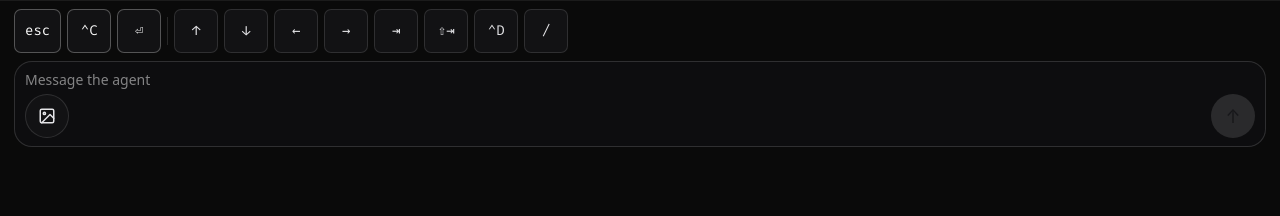
Test case: Composer › Tab accepts the selected slash command into the draft without sending
Type "/cl" into the text box with placeholder "Message the agent" at (640, 80), box [25,70,1255,90]
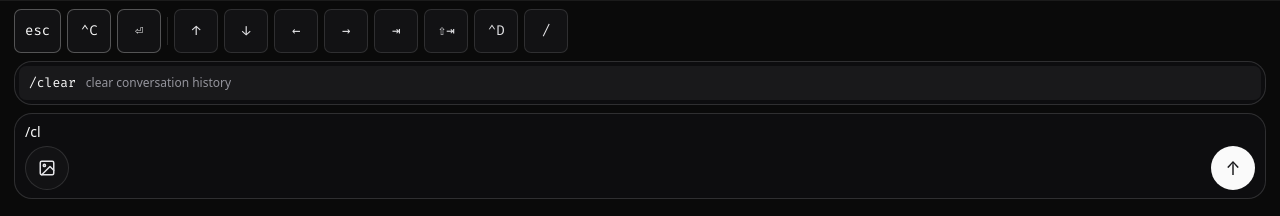
Press Tab in the text box with placeholder "Message the agent", box [25,122,1255,142]
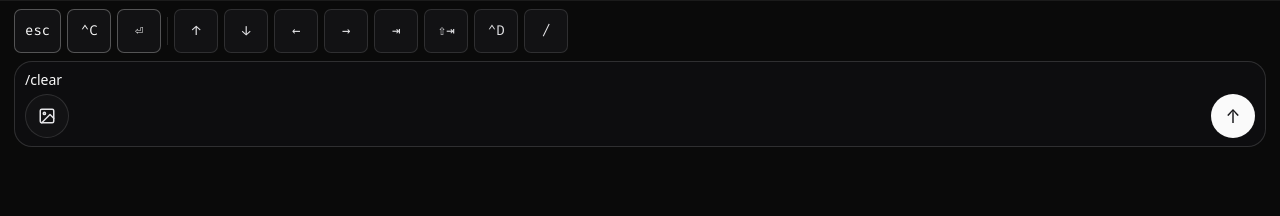
Expected: the text box with placeholder "Message the agent" holds "/clear ", [25,70,1255,90]
